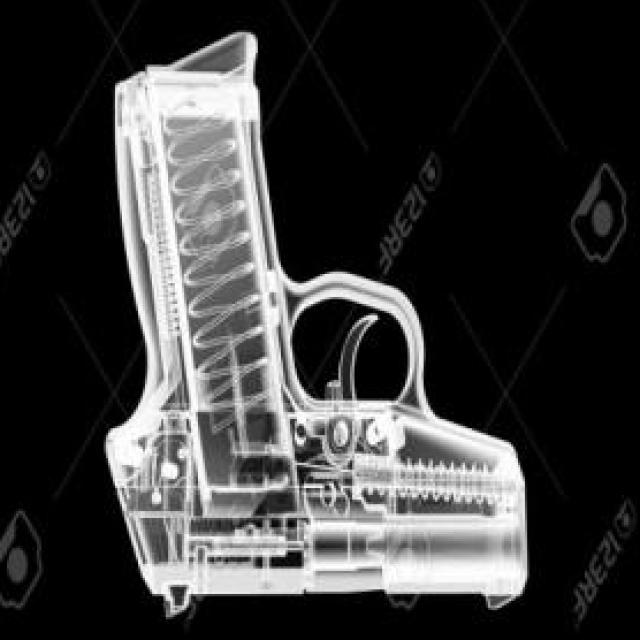pistol: (111, 30, 530, 612)
